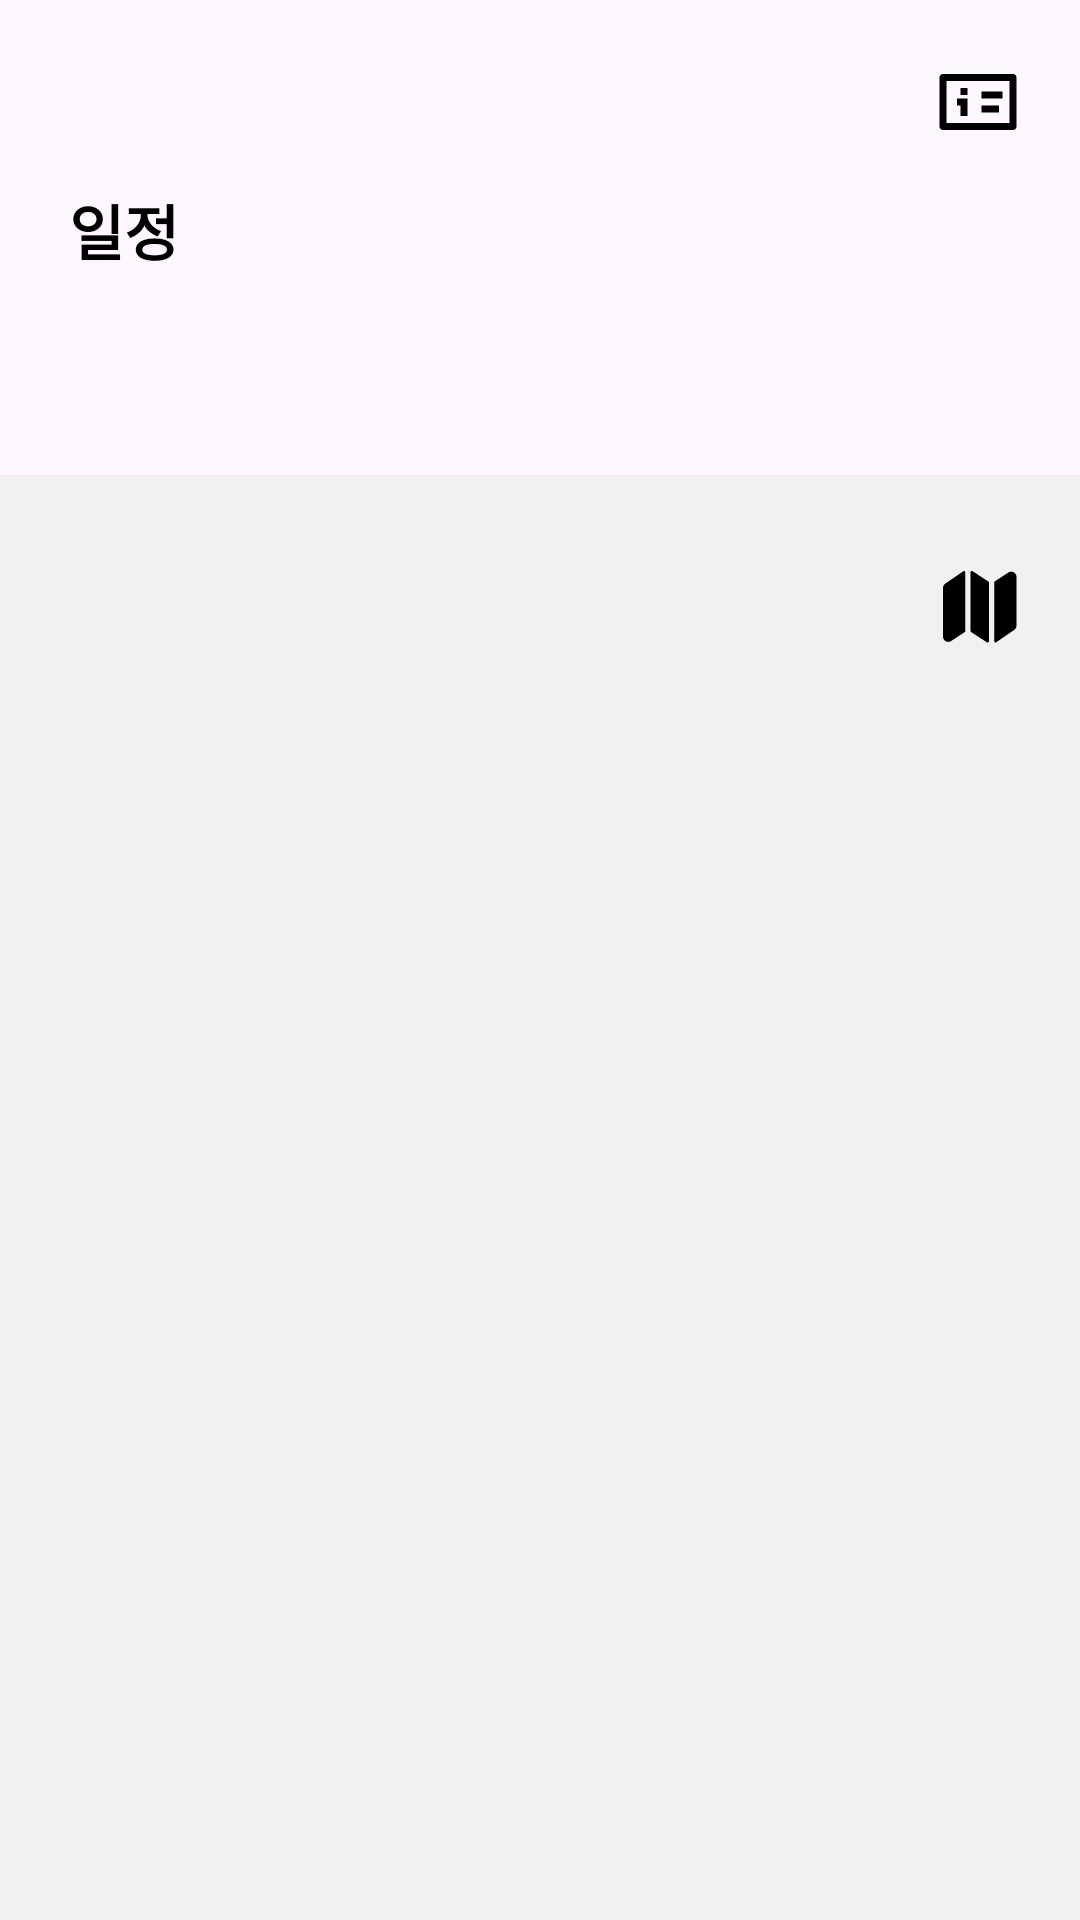

Screen size 1080px×1920px. Icon name, then its center in pixels as point (x, y):
info card: point (978, 102)
map: point (980, 607)
